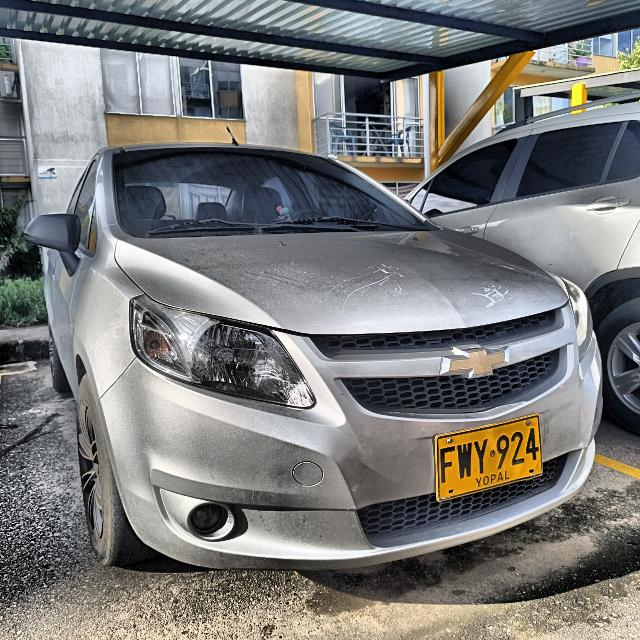plate: (436, 415, 542, 501)
